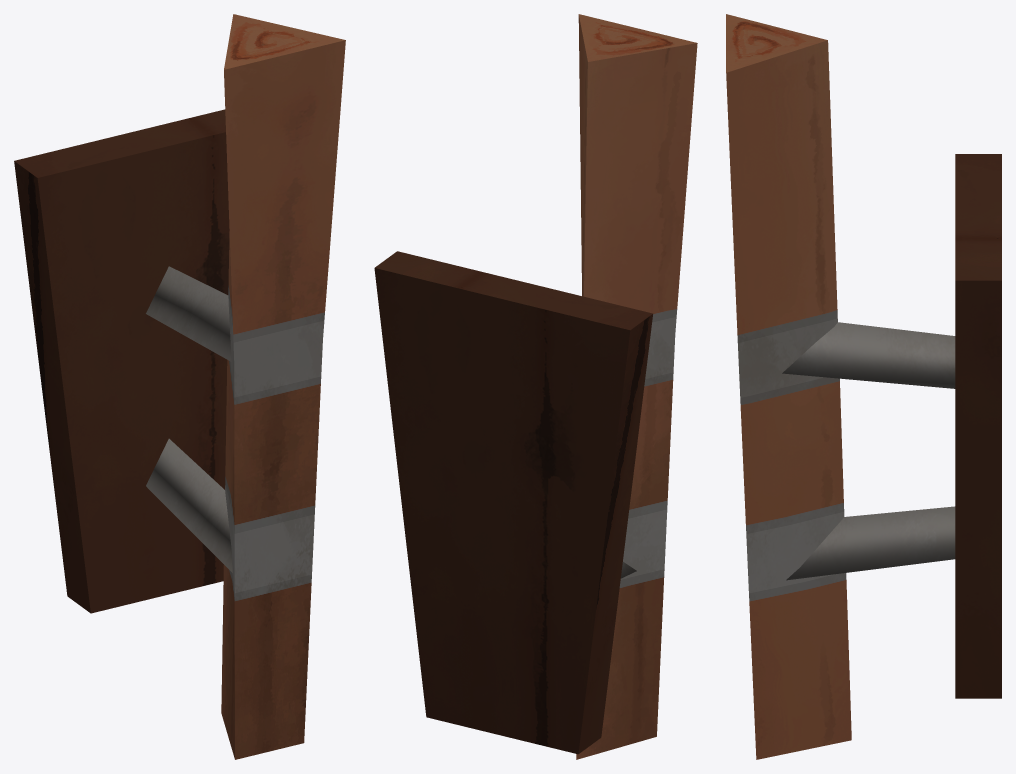
The model's file is Torch.fbx.
3 renders of one model, left to right at view 1: azimuth 30°, elevation 25°; view 2: azimuth 150°, elevation 25°; view 3: azimuth 270°, elevation 25°, orthographic. The views are drawn at different scales.
Parts seen in each view (by area): view 1: Torch; view 2: Torch; view 3: Torch.
Boxes of the visible parts, x1,y1,x2,y2 form: Torch: (14,14,345,759); Torch: (374,14,697,759); Torch: (726,14,1001,759).
Bounding box in the file's own units: 12.96 × 33.51 × 11.91.
